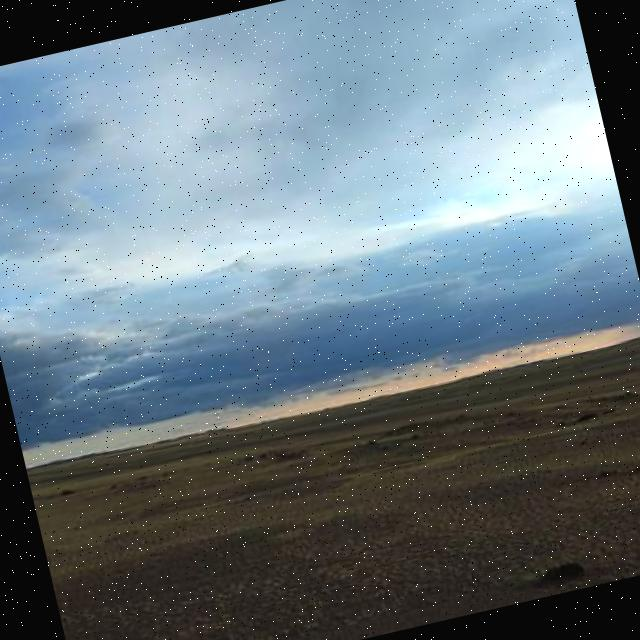Ns: (1, 161, 640, 471)
